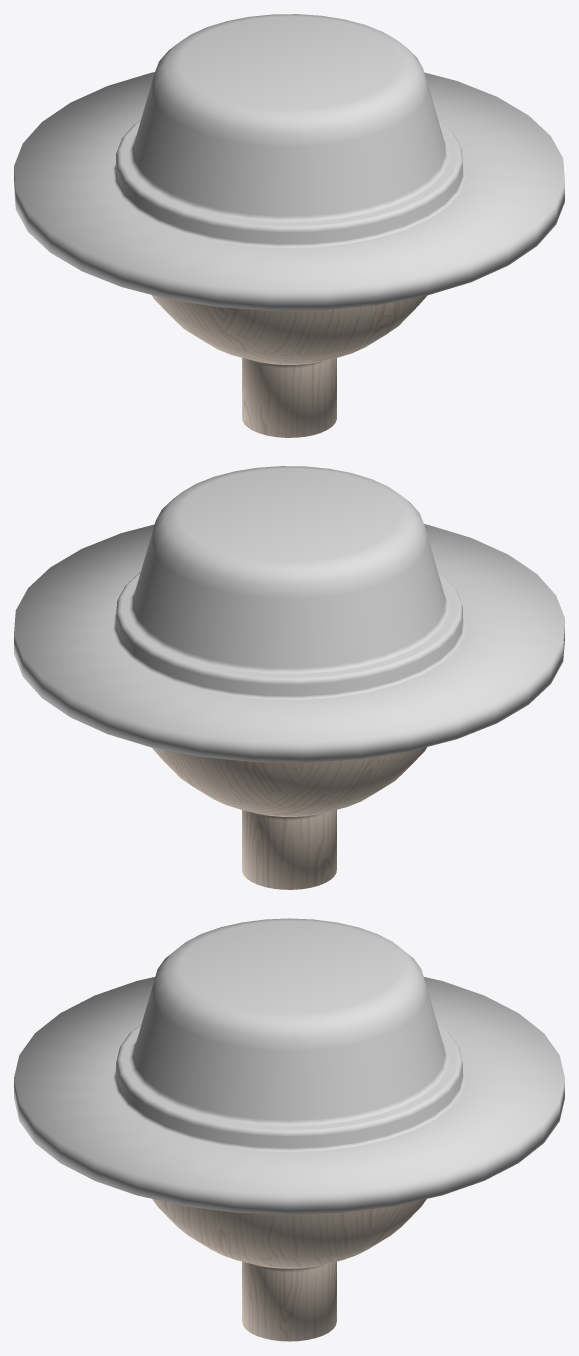
File: park_ranger_head.fbx
3 renders of one model, top to bottom at view 1: azimuth 30°, elevation 25°; view 2: azimuth 150°, elevation 25°; view 3: azimuth 270°, elevation 25°, orthographic.
Visible parts, largest first — view 1: Hat, Head; view 2: Hat, Head; view 3: Hat, Head.
Boxes of the visible parts, x1,y1,x2,y2 form: Hat: (14, 14, 564, 310); Head: (152, 295, 427, 437); Hat: (14, 466, 564, 762); Head: (151, 747, 426, 889); Hat: (14, 918, 564, 1214); Head: (152, 1199, 426, 1341).
Bounding box in the file's own units: 169 × 120 × 169.
